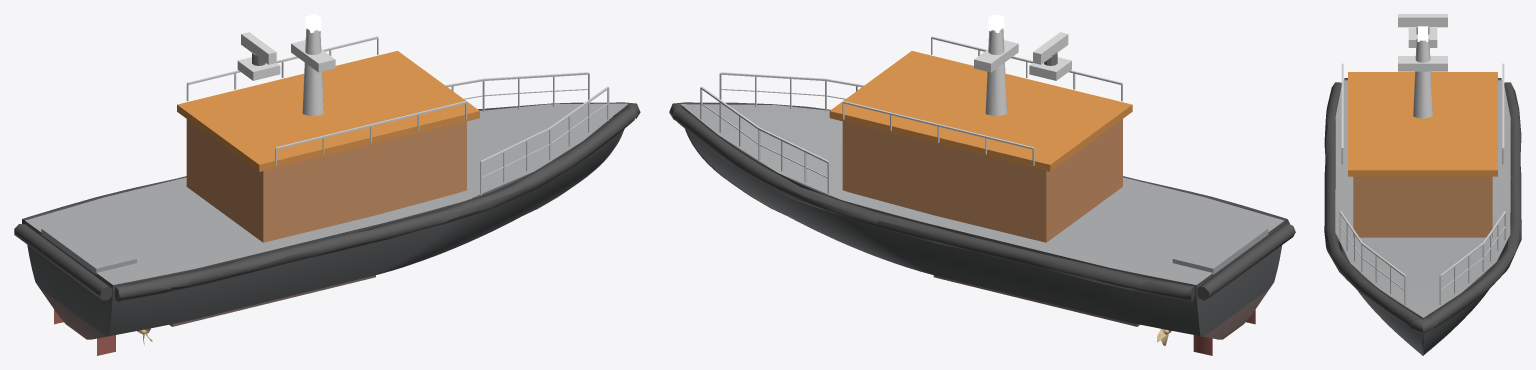
The model's file is pilot.glb.
3 views of the same model, side by side, from view 1: azimuth 30°, elevation 25°; view 2: azimuth 150°, elevation 25°; view 3: azimuth 270°, elevation 25° (orthographic). The views are drawn at different scales.
Size of the model in its own units: 17.19 by 7.7 by 5.52.
